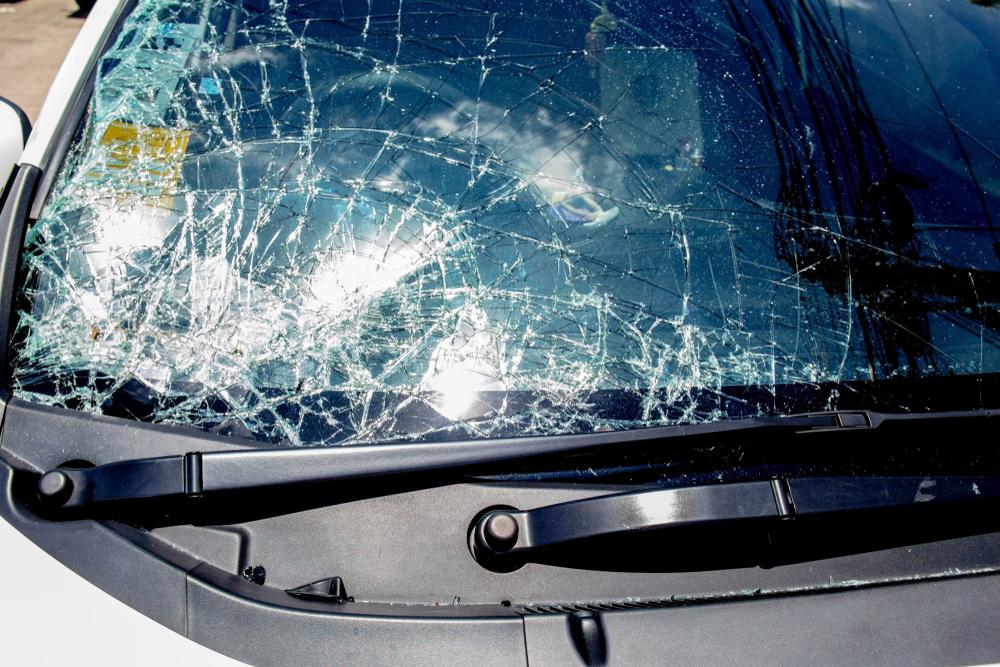glass shatter: (11, 0, 1000, 446)
